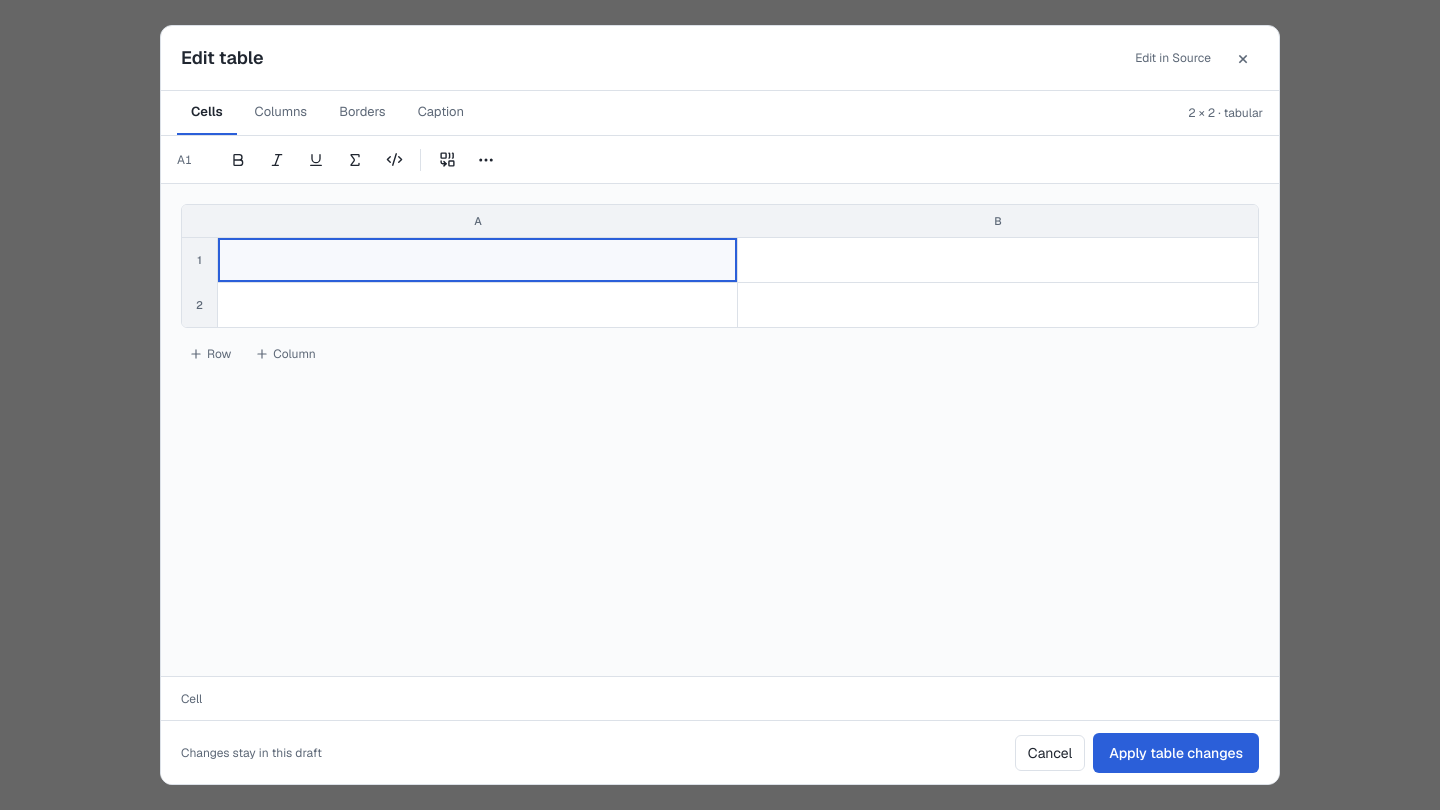
Test: requires setup in the main file rather than silently modifying an included file
Click the button "Columns" at [281, 113], box left=241, top=91, right=321, bottom=135
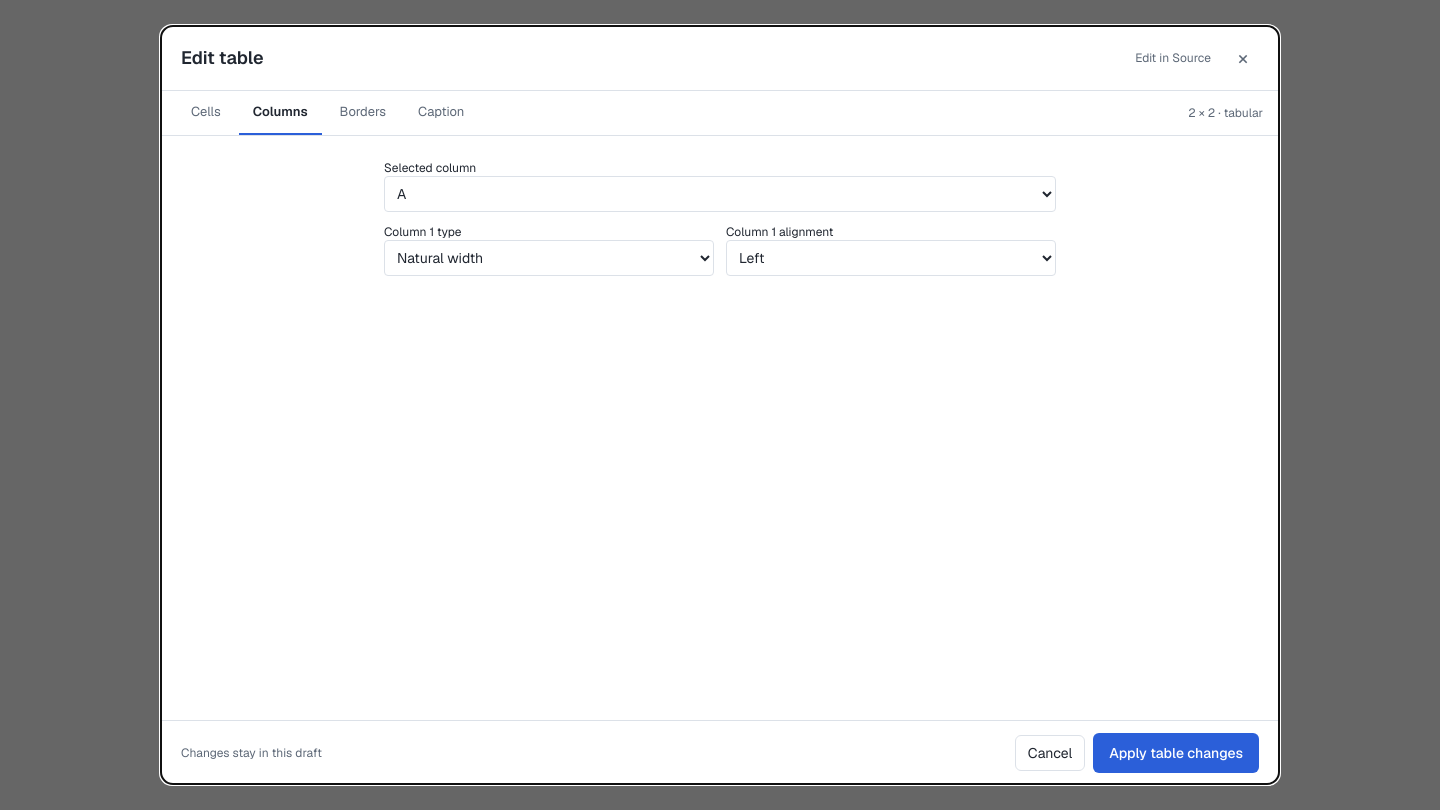
Select "Wrap, middle aligned" in the dropdown named "Column 1 type" at [549, 258], box left=384, top=240, right=714, bottom=276
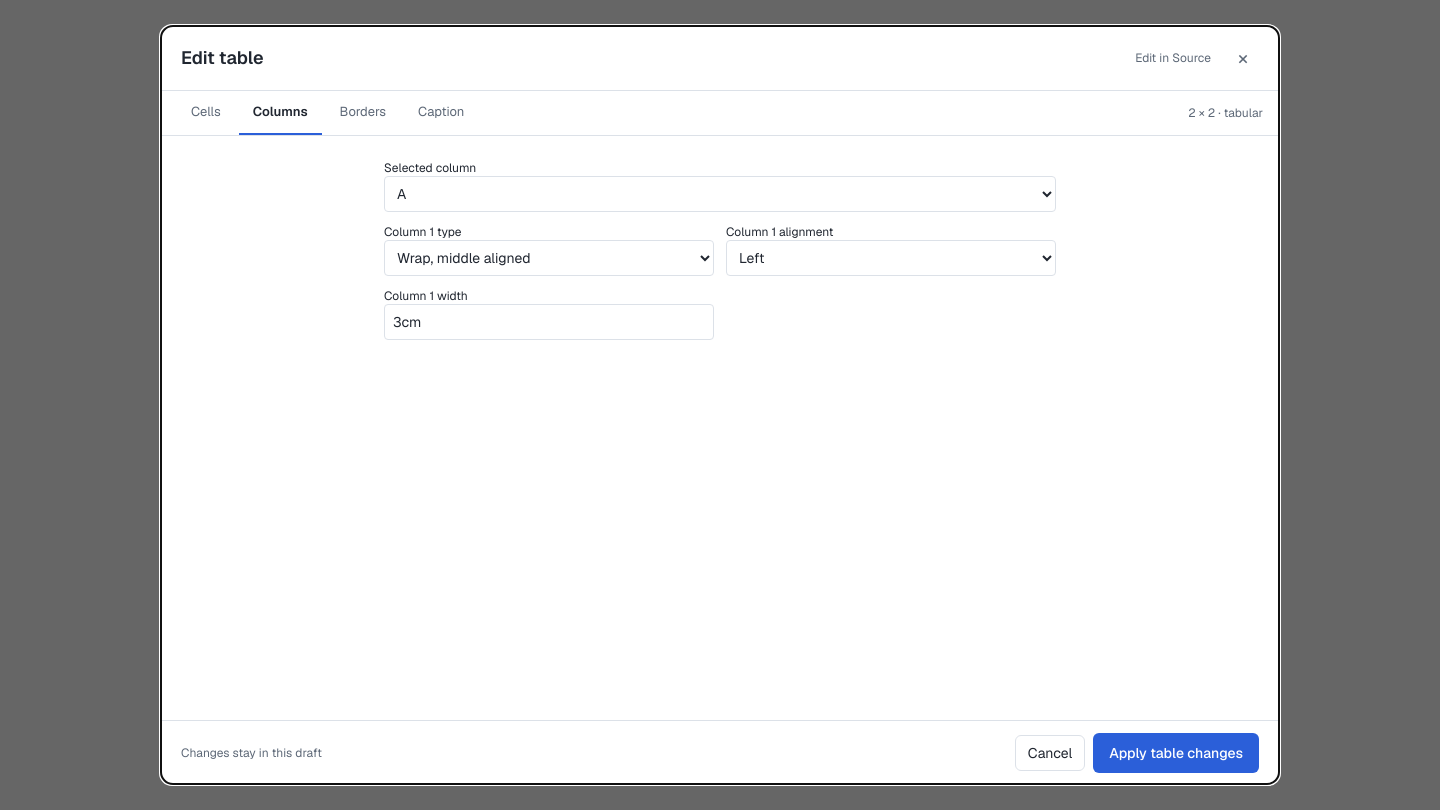
Click the button "Apply table changes" at [1176, 752], box left=1093, top=732, right=1259, bottom=772
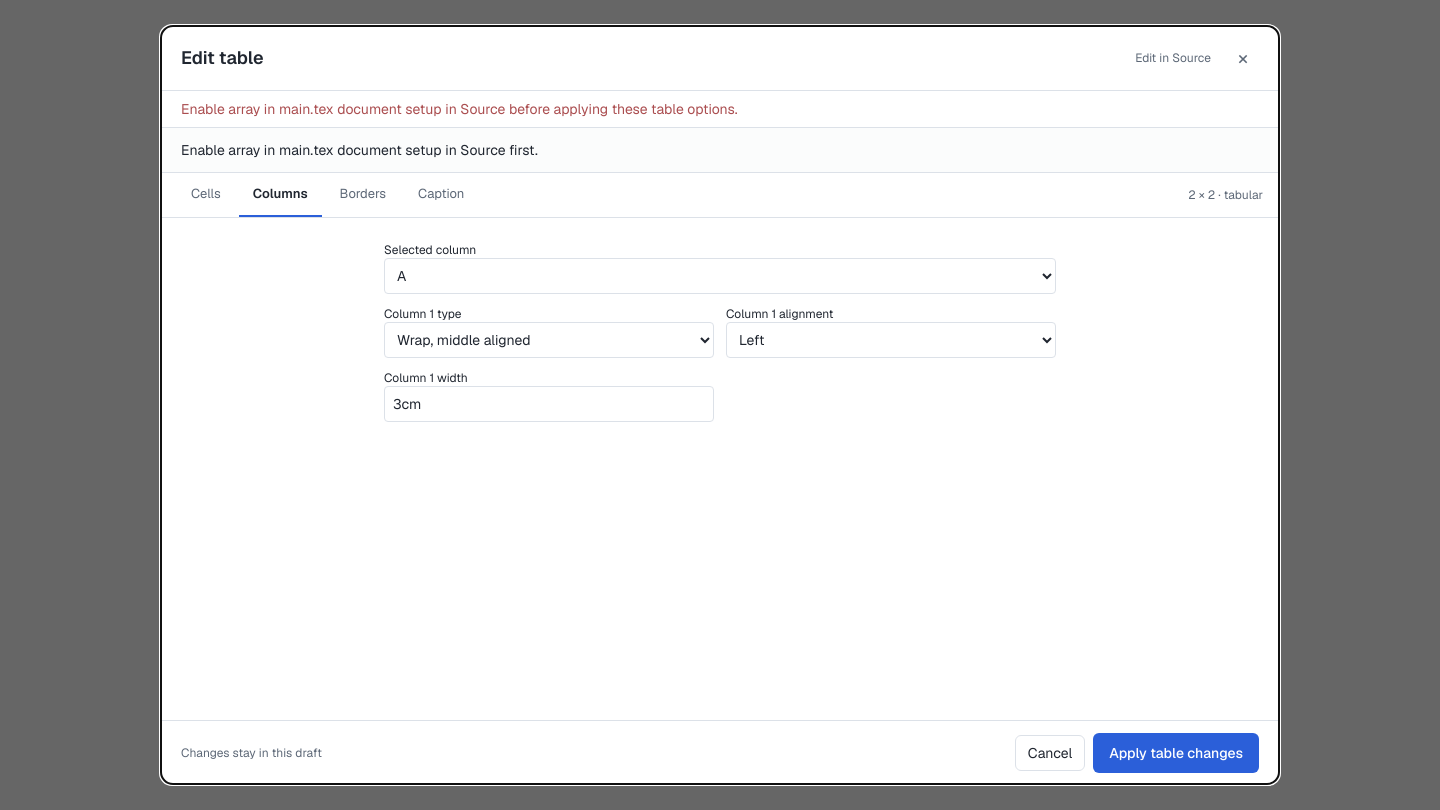
Now the message shows "main.tex document setup in Source", box left=181, top=100, right=738, bottom=118
